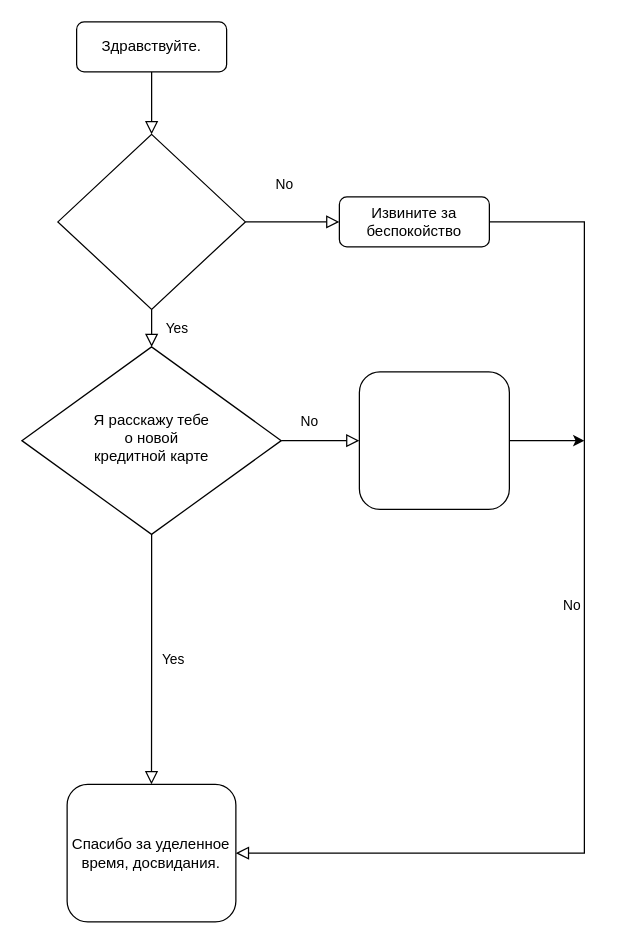
The diagram is 619 pixels wide and 944 high, and some of its shapes have lost their labels. The shapes that lost their labels are listed below. From the top down, each one's box as (x1, y1, x2, y2) in pixels, then its label:
(57, 133, 245, 309): Можете уделить мне минуточкой своего времени
(358, 371, 509, 509): Когда можно будет связаться с Вами
